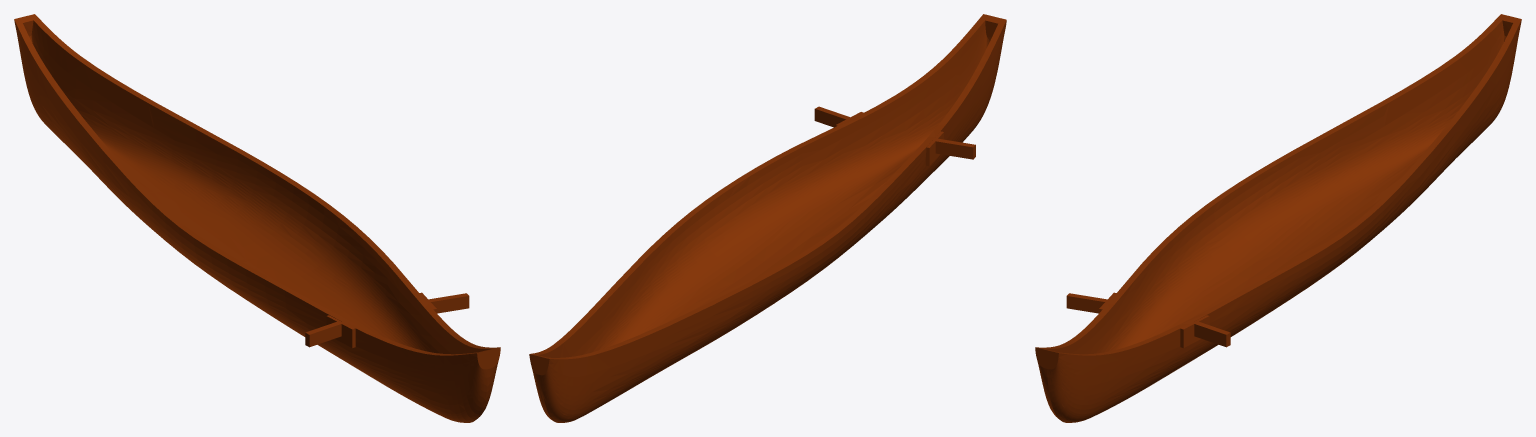
The model's file is boat.dae.
3 views of the same model, side by side, from view 1: azimuth 30°, elevation 25°; view 2: azimuth 150°, elevation 25°; view 3: azimuth 330°, elevation 25° (orthographic).
Parts seen in each view (by area): view 1: Boat Assembly - Boat-1-1; view 2: Boat Assembly - Boat-1-1; view 3: Boat Assembly - Boat-1-1.
Part boxes in pixels (<box>): Boat Assembly - Boat-1-1: <box>14,14,500,422</box>; Boat Assembly - Boat-1-1: <box>529,14,1006,422</box>; Boat Assembly - Boat-1-1: <box>1035,14,1521,422</box>.
Size of the model in its own units: 13.57 by 67.5 by 7.75.
